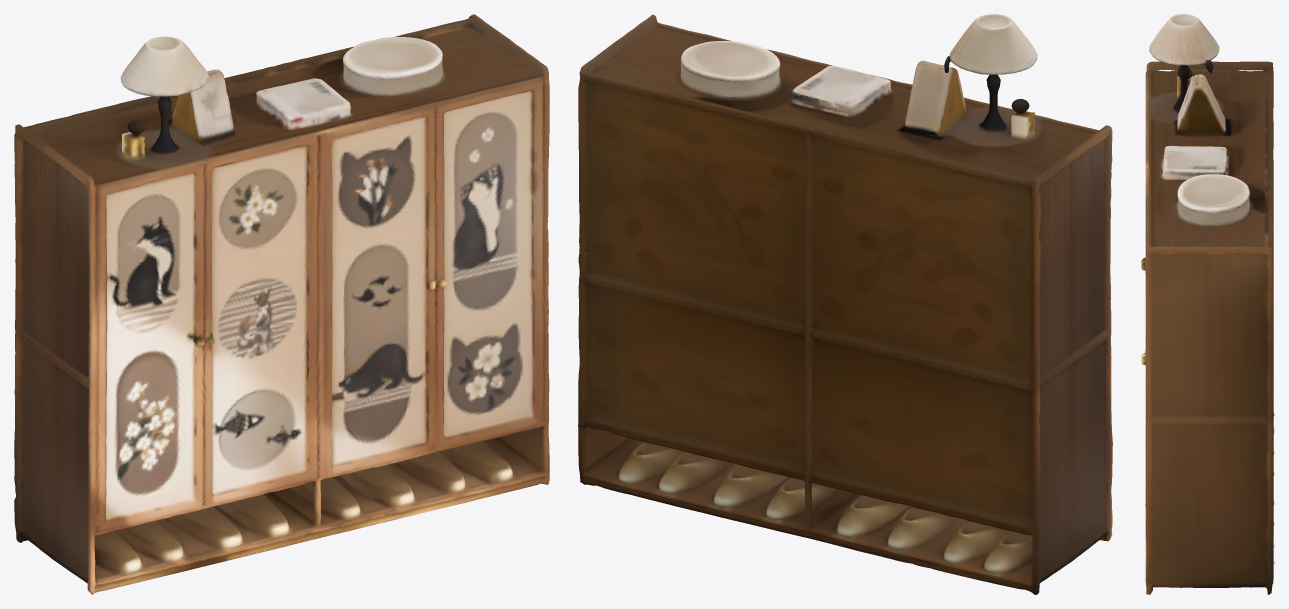
The model's file is 玄关柜 (3).fbx.
3 views of the same model, side by side, from view 1: azimuth 30°, elevation 25°; view 2: azimuth 150°, elevation 25°; view 3: azimuth 270°, elevation 25° (orthographic). The views are drawn at different scales.
Parts seen in each view (by area): view 1: model; view 2: model; view 3: model.
Boxes of the visible parts, box(x1,y1,x2,y2) form: model: box(14, 14, 549, 594); model: box(578, 14, 1112, 594); model: box(1141, 14, 1274, 594).
Bounding box in the file's own units: 166 × 177 × 49.97.
